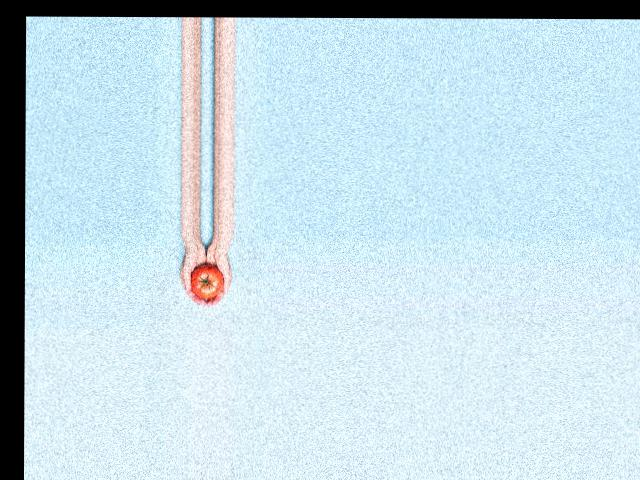tomato: (189, 264, 223, 298)
